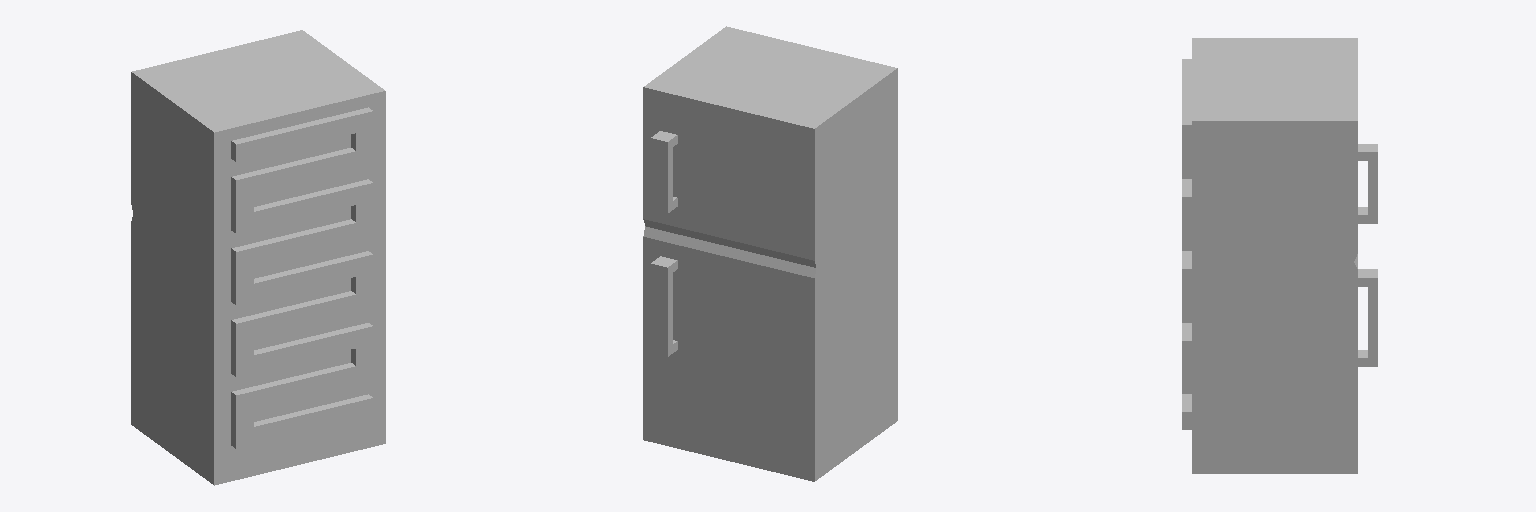
Rendered from FM_fridge.obj.
3 views of the same model, side by side, from view 1: azimuth 30°, elevation 25°; view 2: azimuth 150°, elevation 25°; view 3: azimuth 270°, elevation 25° (orthographic).
Parts seen in each view (by area): view 1: Fridge_Cube.032; view 2: Fridge_Cube.032; view 3: Fridge_Cube.032.
Boxes of the visible parts, x1=… form: Fridge_Cube.032: x1=131, y1=30, x2=385, y2=485; Fridge_Cube.032: x1=643, y1=26, x2=897, y2=481; Fridge_Cube.032: x1=1182, y1=38, x2=1377, y2=473.
Bounding box in the file's own units: 1 × 1.97 × 0.99.